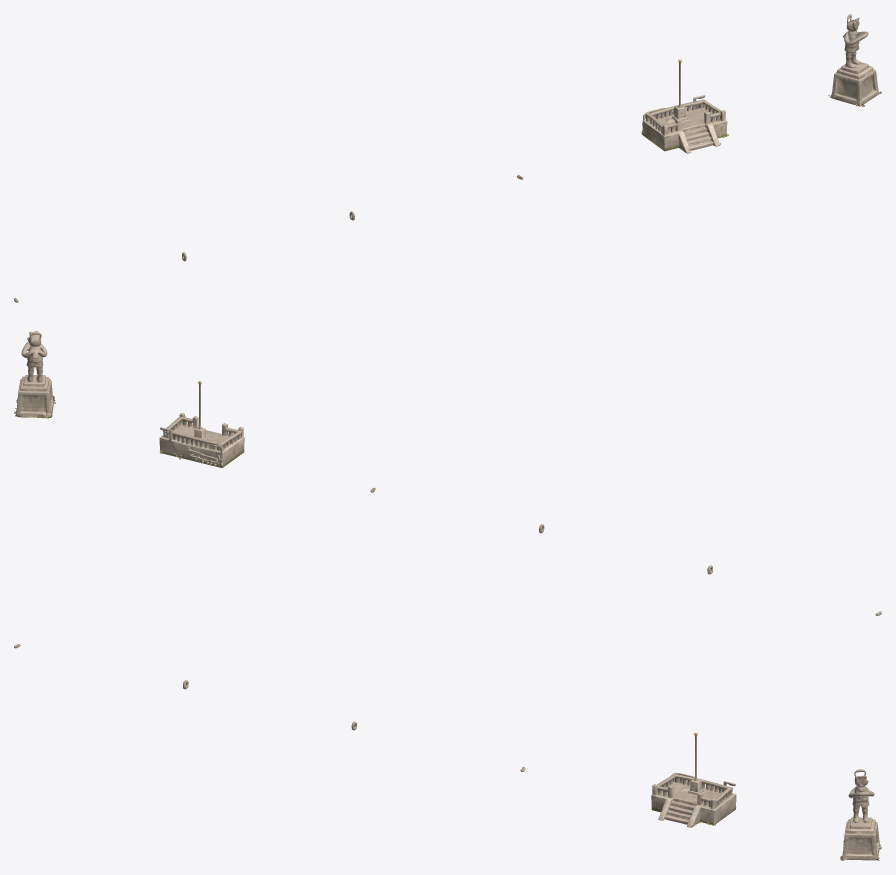
File: set_ground.glb
3 renders of one model, top to bottom at view 1: azimuth 30°, elevation 25°; view 2: azimuth 150°, elevation 25°; view 3: azimuth 330°, elevation 25°, orthographic.
Visible parts, largest first — view 1: p4, p5; view 2: p4, p5; view 3: p4, p5.
Part boxes in pixels (left/top/right/bottom): p4: left=641, top=59, right=728, bottom=153; p5: left=828, top=14, right=881, bottom=106; p4: left=159, top=381, right=244, bottom=467; p5: left=14, top=331, right=55, bottom=418; p4: left=651, top=732, right=736, bottom=827; p5: left=840, top=769, right=881, bottom=860.
Bounding box in the file's own units: 15.43 × 1.37 × 1.01.
1 material, 1 textured.
